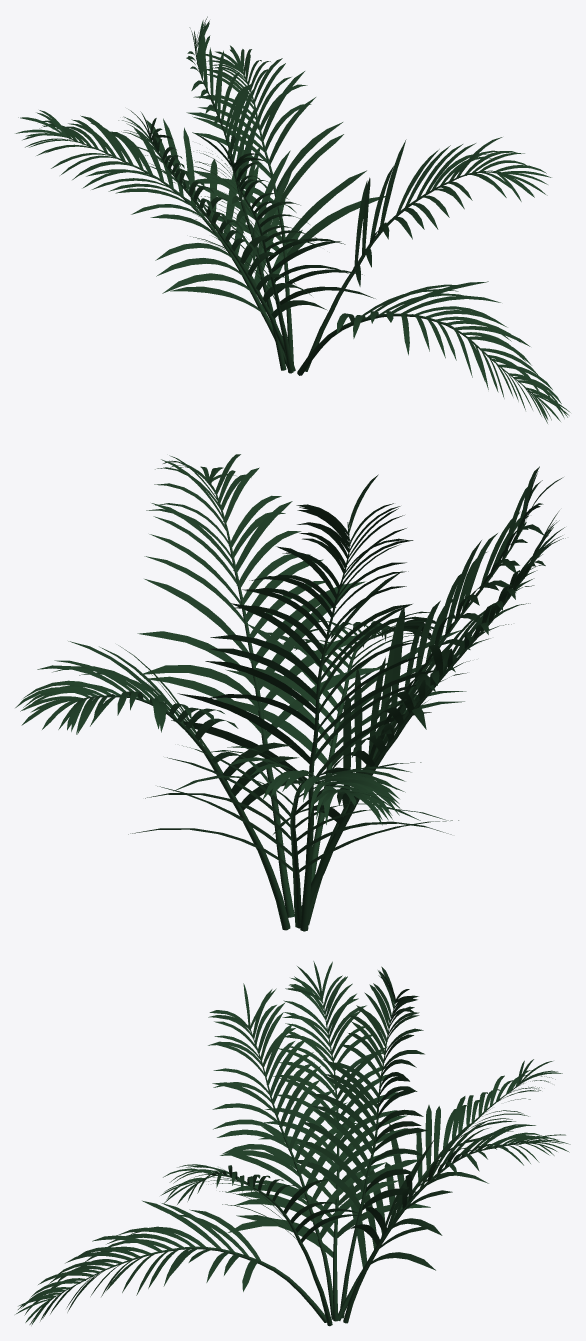
The model's file is kusa.fbx.
3 views of the same model, one above another, from view 1: azimuth 30°, elevation 25°; view 2: azimuth 150°, elevation 25°; view 3: azimuth 270°, elevation 25° (orthographic). The views are drawn at different scales.
Visible parts, largest first — view 1: Palm_01:Palm_01; view 2: Palm_01:Palm_01; view 3: Palm_01:Palm_01.
Part boxes in pixels (x1,y1,x2,y2): Palm_01:Palm_01: [15, 16, 570, 423]; Palm_01:Palm_01: [15, 454, 565, 931]; Palm_01:Palm_01: [15, 961, 570, 1326].
Size of the model in its own units: 16.34 by 15.62 by 24.58.
